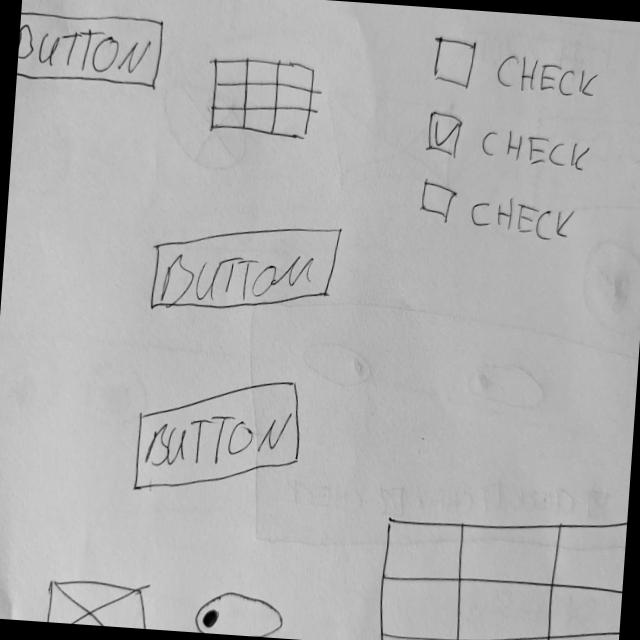button: (128, 367, 310, 506), (143, 211, 346, 326), (17, 8, 169, 95)
checkbox: (428, 33, 607, 108), (420, 107, 597, 180), (418, 176, 581, 247)
image: (42, 574, 158, 630)
table: (373, 493, 628, 640), (205, 51, 324, 146)
toggle: (188, 585, 288, 640)
